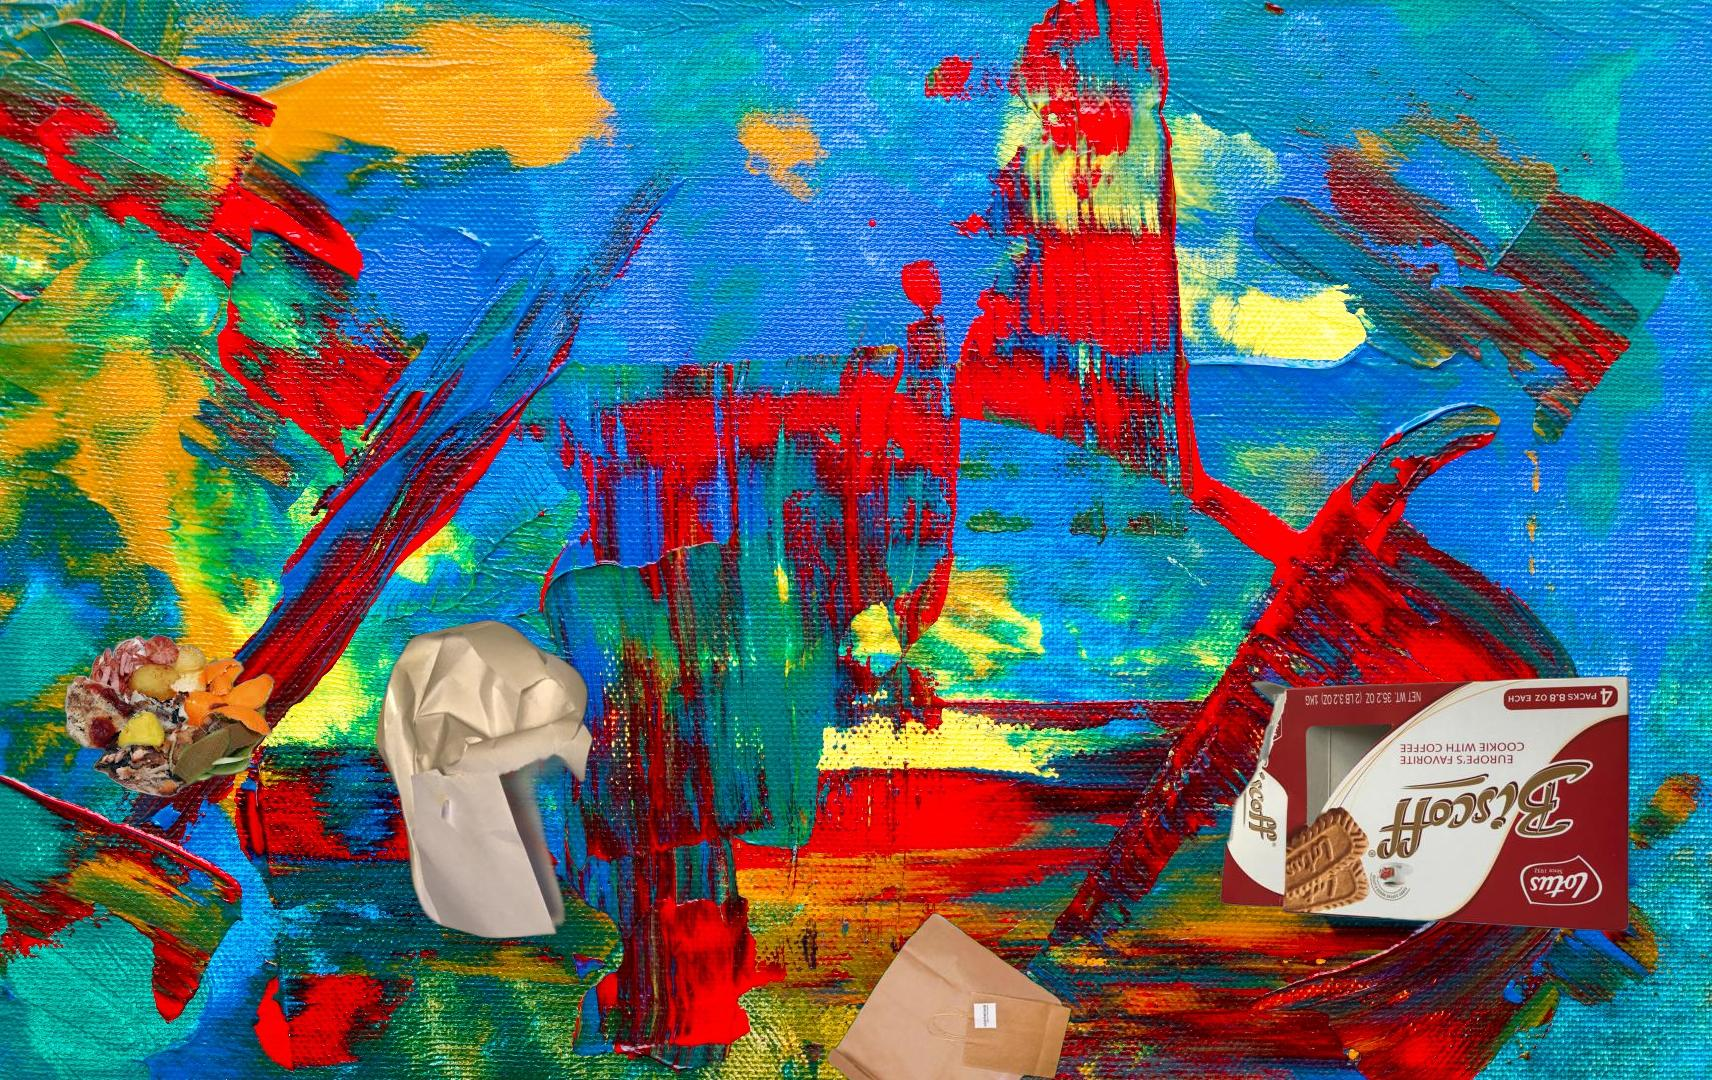biological: (59, 625, 279, 802)
paper: (1216, 672, 1634, 934), (371, 618, 597, 941)
paper-bag: (824, 910, 1077, 1080)
